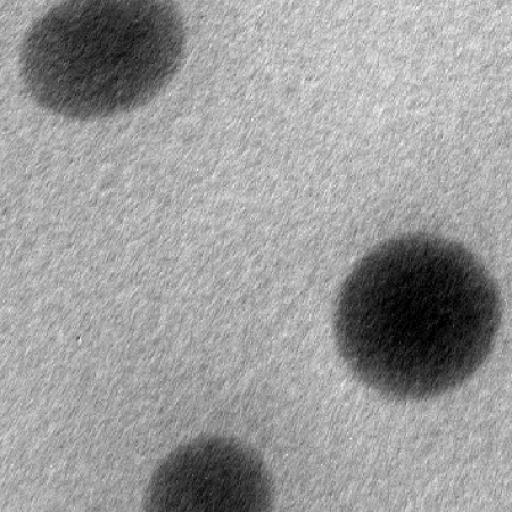Nanoparticles: (334, 234, 498, 396), (17, 0, 187, 119), (144, 434, 272, 510)
